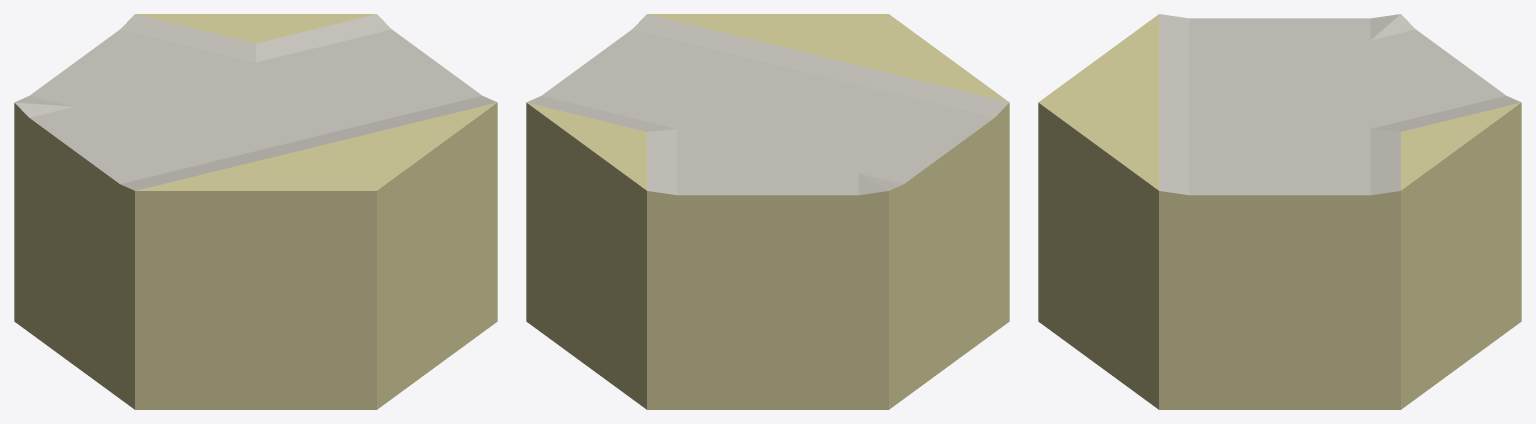
The model's file is sand_road5.fbx.
The picture shows the model from 3 angles, left to right: view 1: azimuth 30°, elevation 25°; view 2: azimuth 150°, elevation 25°; view 3: azimuth 270°, elevation 25°; orthographic projection.
Parts seen in each view (by area): view 1: Cylinder; view 2: Cylinder; view 3: Cylinder.
Boxes of the visible parts, bbox=[...] form: Cylinder: bbox=[14, 14, 497, 409]; Cylinder: bbox=[526, 14, 1009, 409]; Cylinder: bbox=[1038, 14, 1521, 409].
Bounding box in the file's own units: 1.73 × 1 × 2.
